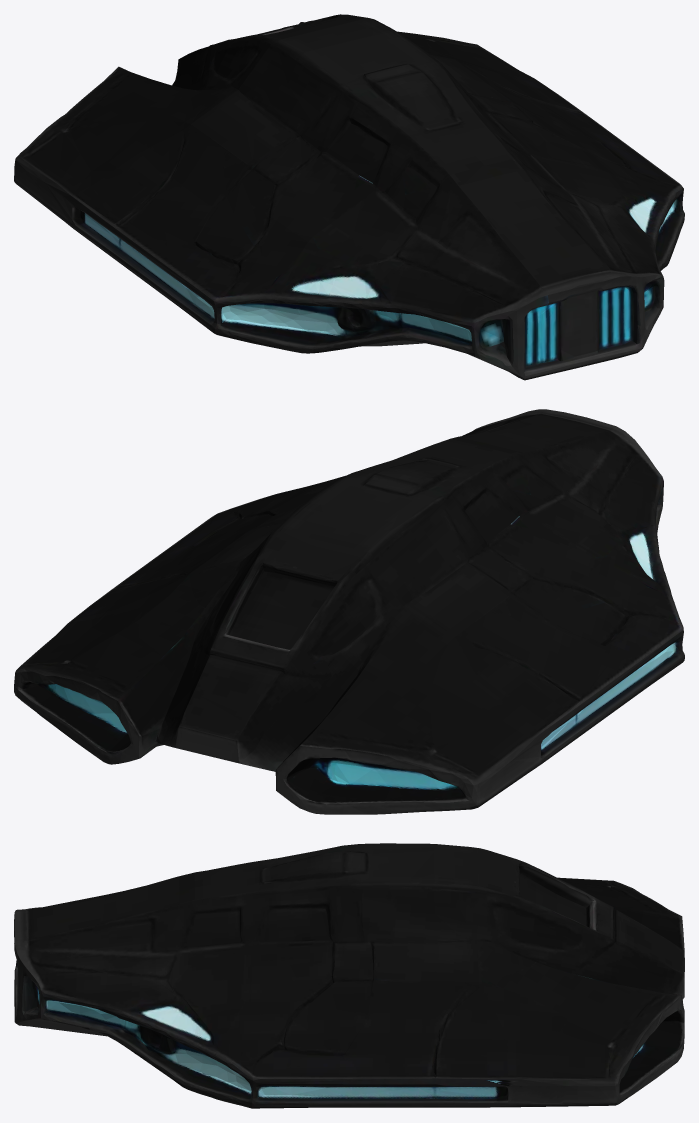
The model's file is vehicle_hovercraft_player.glb.
3 renders of one model, top to bottom at view 1: azimuth 30°, elevation 25°; view 2: azimuth 150°, elevation 25°; view 3: azimuth 270°, elevation 25°, orthographic. The views are drawn at different scales.
Parts seen in each view (by area): view 1: hovercraft_player_mesh; view 2: hovercraft_player_mesh; view 3: hovercraft_player_mesh.
Part boxes in pixels (x1,y1,x2,y2): hovercraft_player_mesh: [14, 14, 684, 380]; hovercraft_player_mesh: [14, 409, 684, 814]; hovercraft_player_mesh: [14, 843, 684, 1108].
Bounding box in the file's own units: 0.7245 × 0.293 × 1.
1 material, 1 textured.
